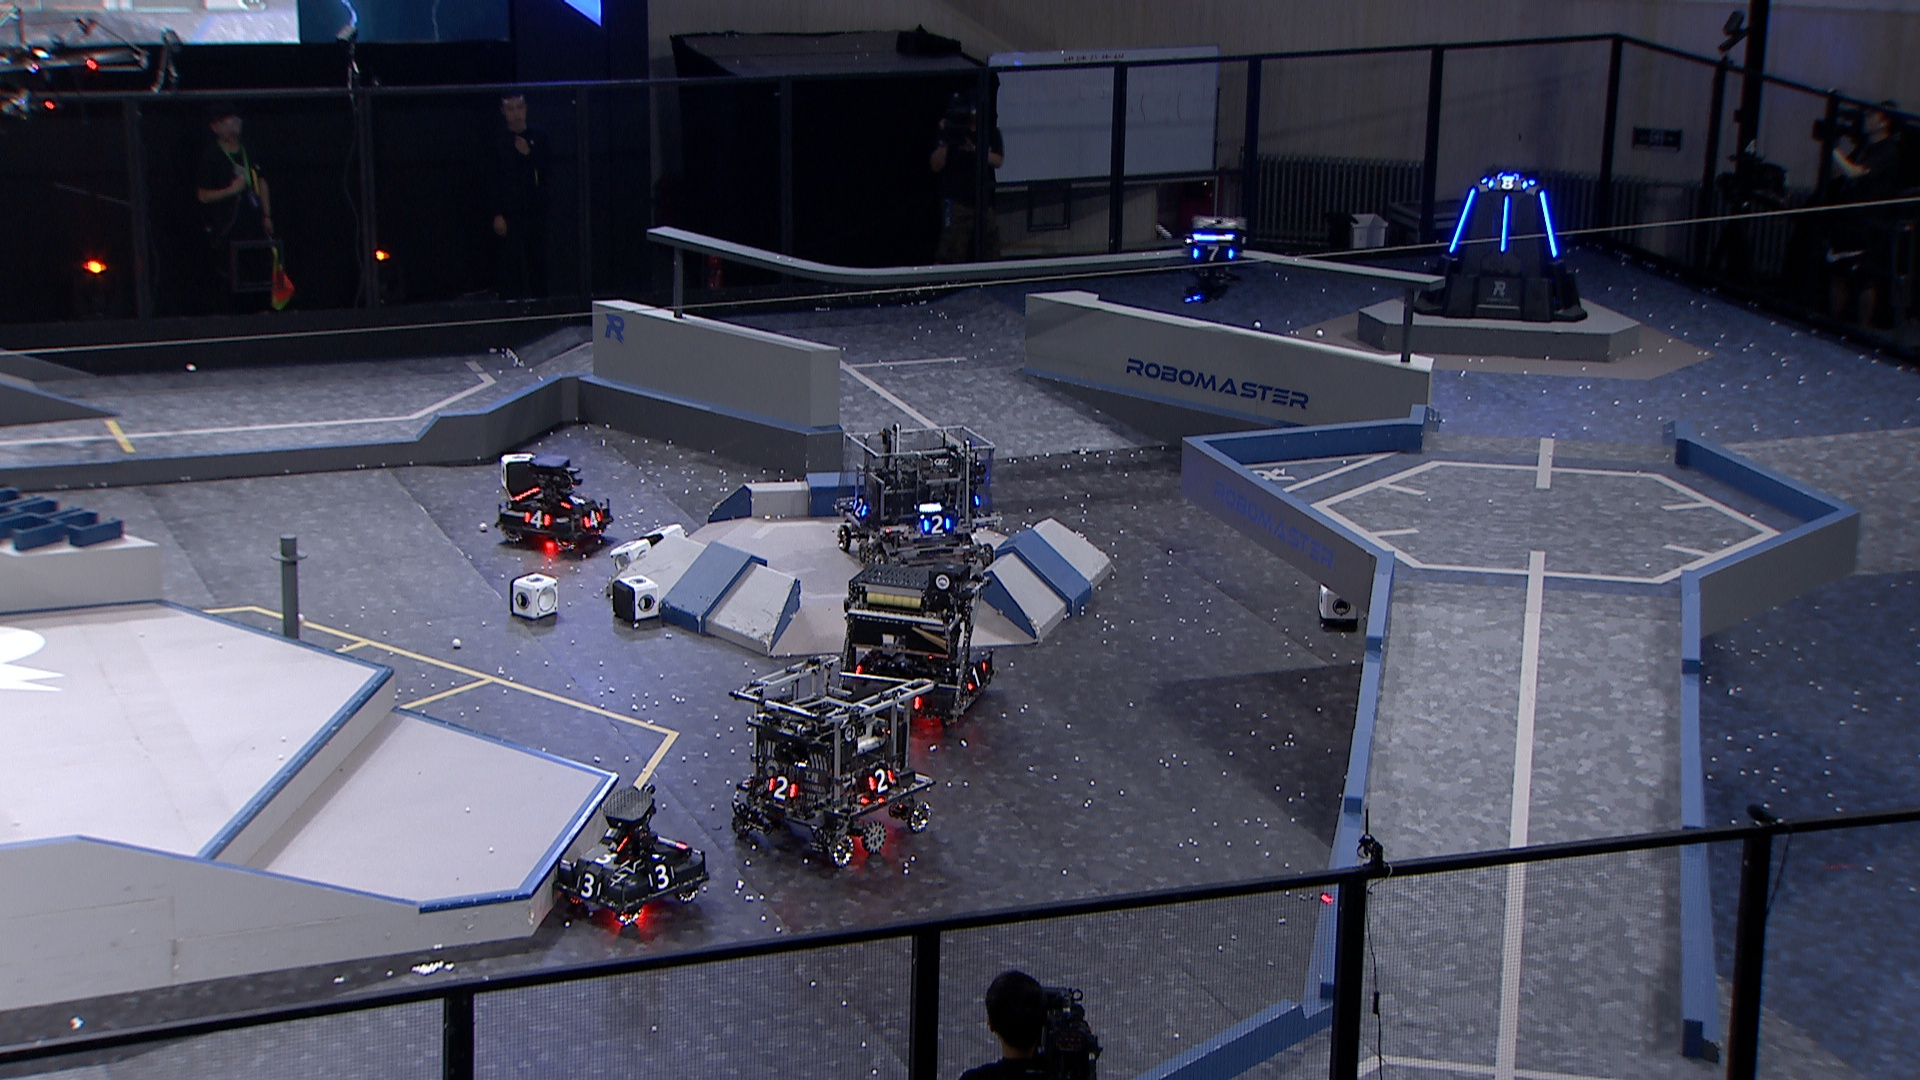armor: (1447, 186, 1477, 253), (1538, 189, 1561, 258), (585, 847, 632, 869), (1189, 244, 1238, 264), (572, 870, 605, 899), (767, 774, 798, 804), (646, 861, 675, 891), (865, 765, 893, 796), (1499, 194, 1513, 255), (520, 509, 555, 531), (964, 661, 988, 694), (1485, 177, 1528, 193), (922, 514, 953, 535), (558, 493, 589, 510), (580, 508, 603, 531), (851, 495, 869, 522)
base: (1411, 171, 1590, 324)
car: (724, 655, 940, 870), (833, 560, 997, 731), (828, 425, 1002, 572), (556, 782, 711, 931), (491, 456, 615, 553)
watcher: (1182, 215, 1244, 306)
